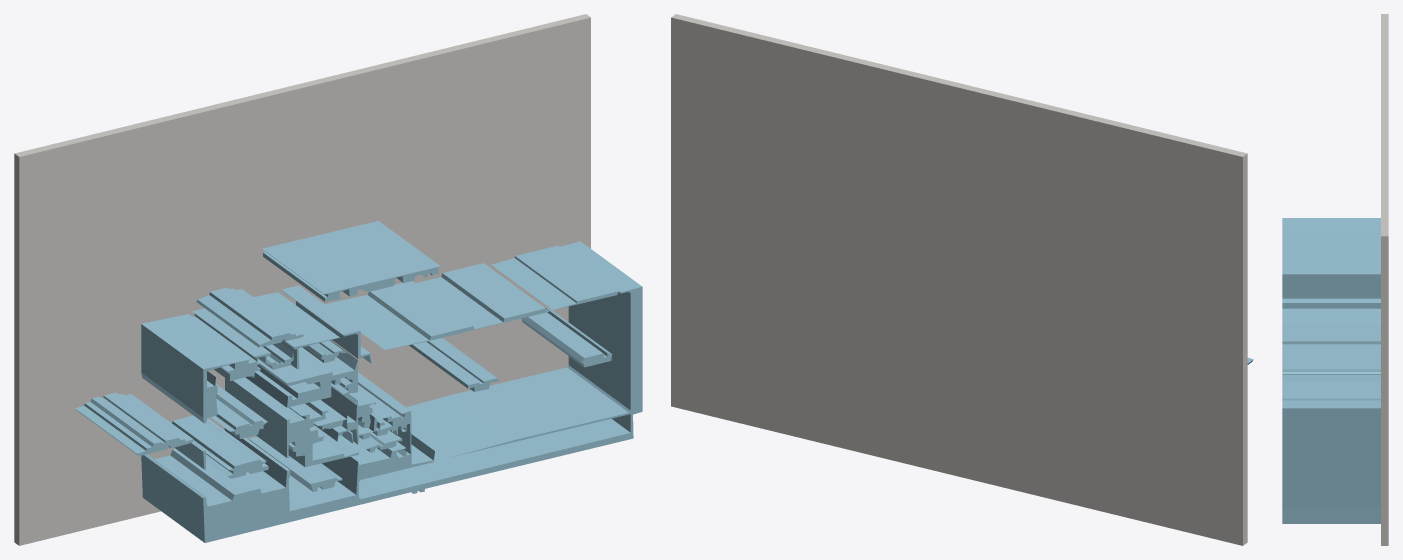
3 views of the same model, side by side, from view 1: azimuth 30°, elevation 25°; view 2: azimuth 150°, elevation 25°; view 3: azimuth 270°, elevation 25° (orthographic). The views are drawn at different scales.
Parts seen in each view (by area): view 1: world; view 2: world; view 3: world.
Boxes of the visible parts, bbox=[...] form: world: bbox=[14, 14, 642, 545]; world: bbox=[671, 14, 1253, 545]; world: bbox=[1282, 14, 1388, 545].
Size of the model in its own units: 10.23 by 6.65 by 2.07.
